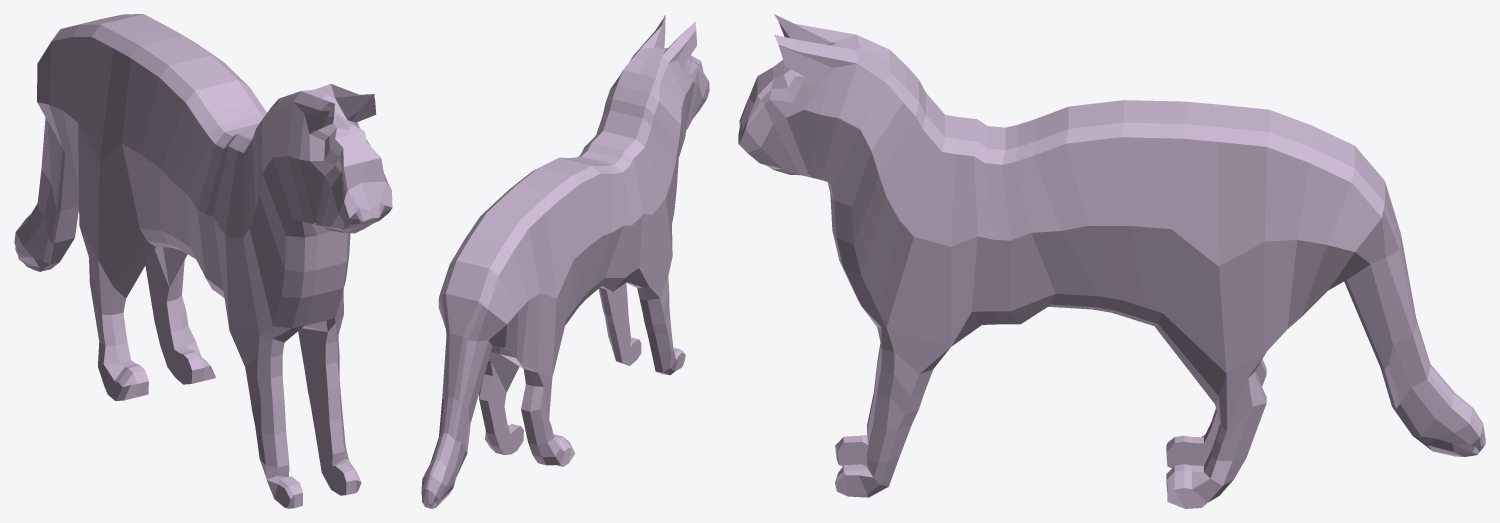
File: cat.fbx
The picture shows the model from 3 angles, left to right: view 1: azimuth 30°, elevation 25°; view 2: azimuth 150°, elevation 25°; view 3: azimuth 270°, elevation 25°; orthographic projection. The views are drawn at different scales.
Parts seen in each view (by area): view 1: Plane; view 2: Plane; view 3: Plane.
Part boxes in pixels (box(x1,y1,x2,y2)): Plane: box(14, 14, 392, 508); Plane: box(421, 14, 709, 508); Plane: box(738, 14, 1485, 508).
Size of the model in its own units: 108 by 485 by 713.
